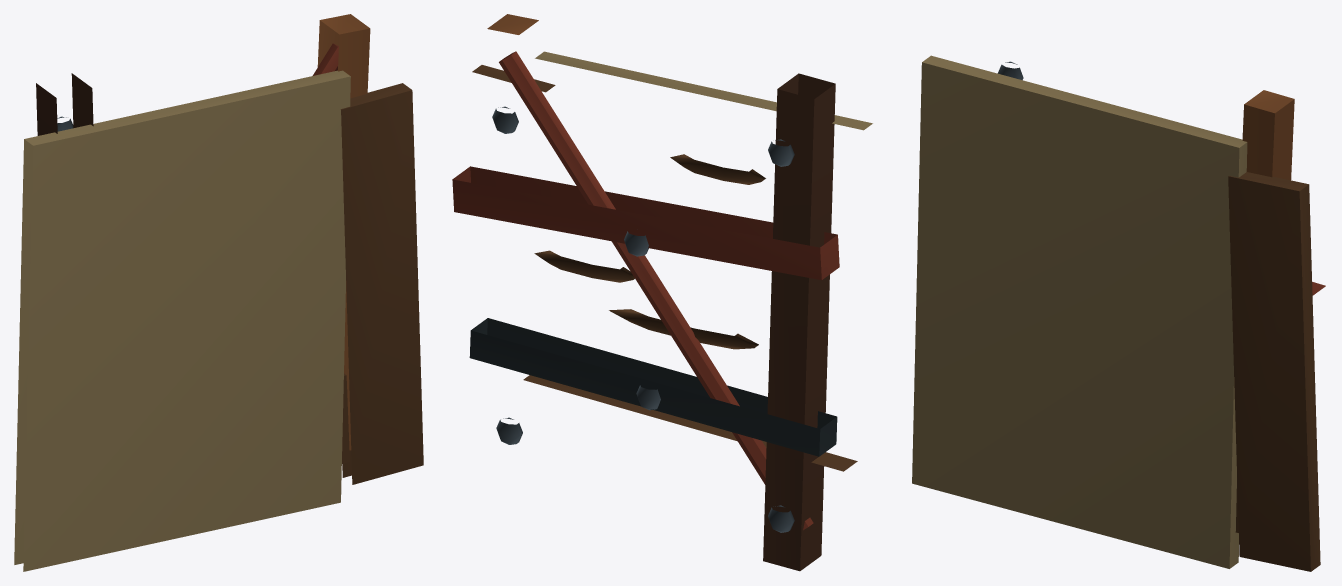
The model's file is wall_insulation_patch.glb.
3 renders of one model, left to right at view 1: azimuth 30°, elevation 25°; view 2: azimuth 150°, elevation 25°; view 3: azimuth 330°, elevation 25°, orthographic. The views are drawn at different scales.
Parts seen in each view (by area): view 1: WallInsulationPatch_Mesh; view 2: WallInsulationPatch_Mesh; view 3: WallInsulationPatch_Mesh.
Part boxes in pixels (x1,y1,x2,y2): WallInsulationPatch_Mesh: [14, 14, 423, 571]; WallInsulationPatch_Mesh: [452, 14, 872, 571]; WallInsulationPatch_Mesh: [912, 55, 1325, 571].
Size of the model in its own units: 1.01 by 1.13 by 0.1535.
